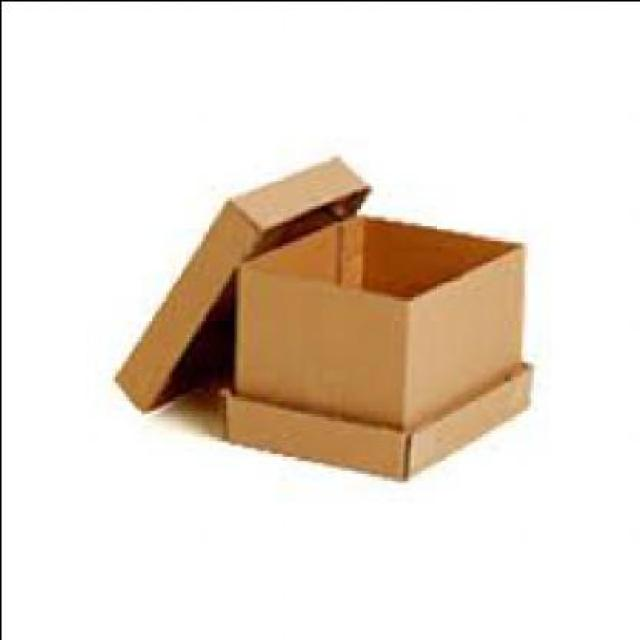CARDBOARD: (117, 151, 372, 409), (236, 208, 529, 422), (222, 356, 536, 478)
